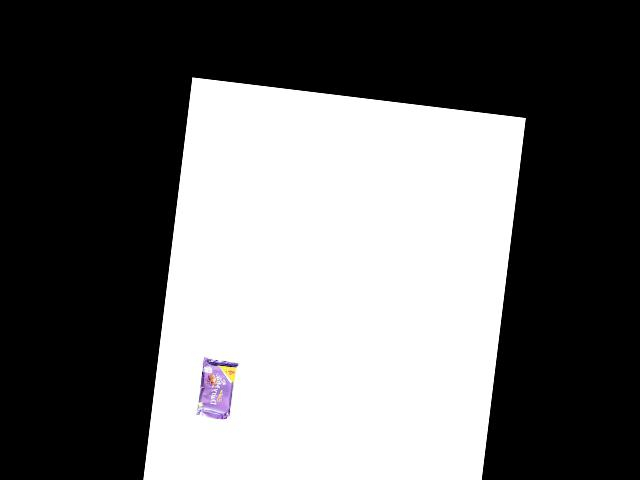chocolate: (191, 349, 239, 422)
